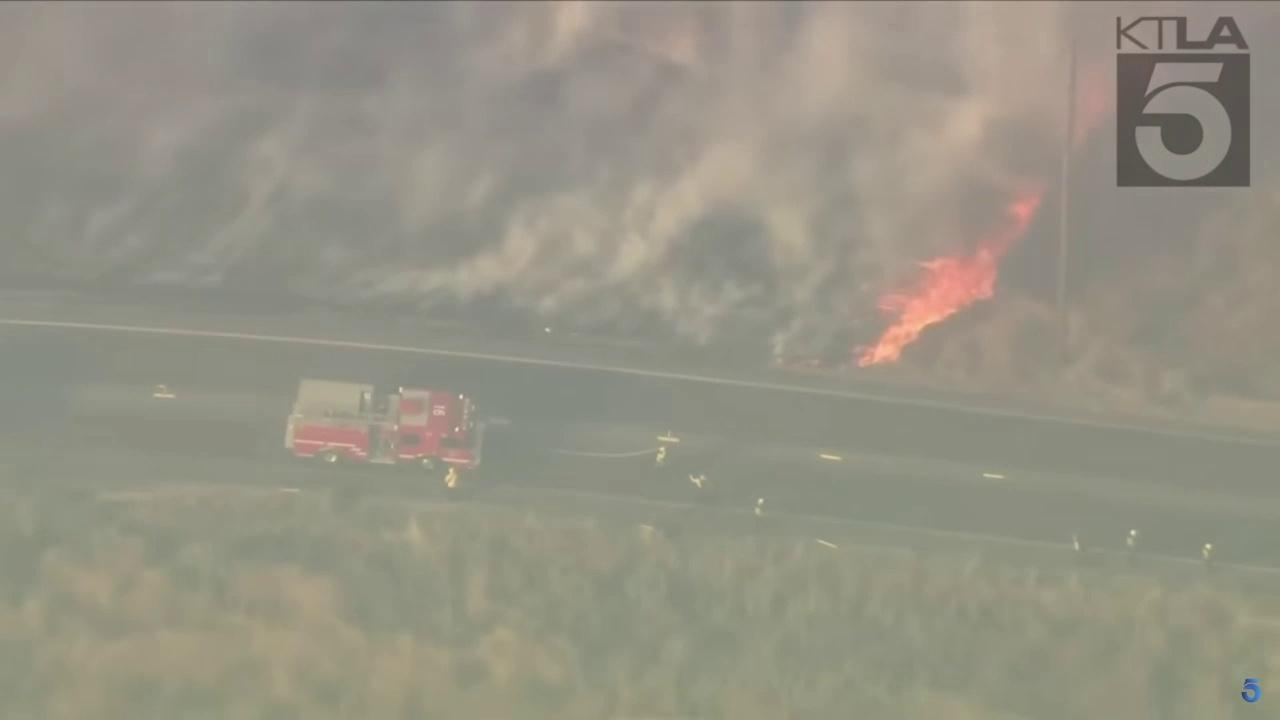fire: (847, 189, 1044, 369)
smoke: (0, 0, 1067, 366)
